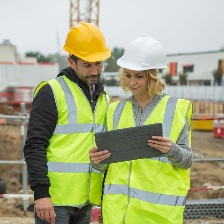helmet: (60, 24, 114, 63), (115, 39, 169, 73)
person: (24, 21, 115, 224), (108, 36, 195, 224)
vest: (106, 93, 193, 221), (47, 74, 112, 200)
